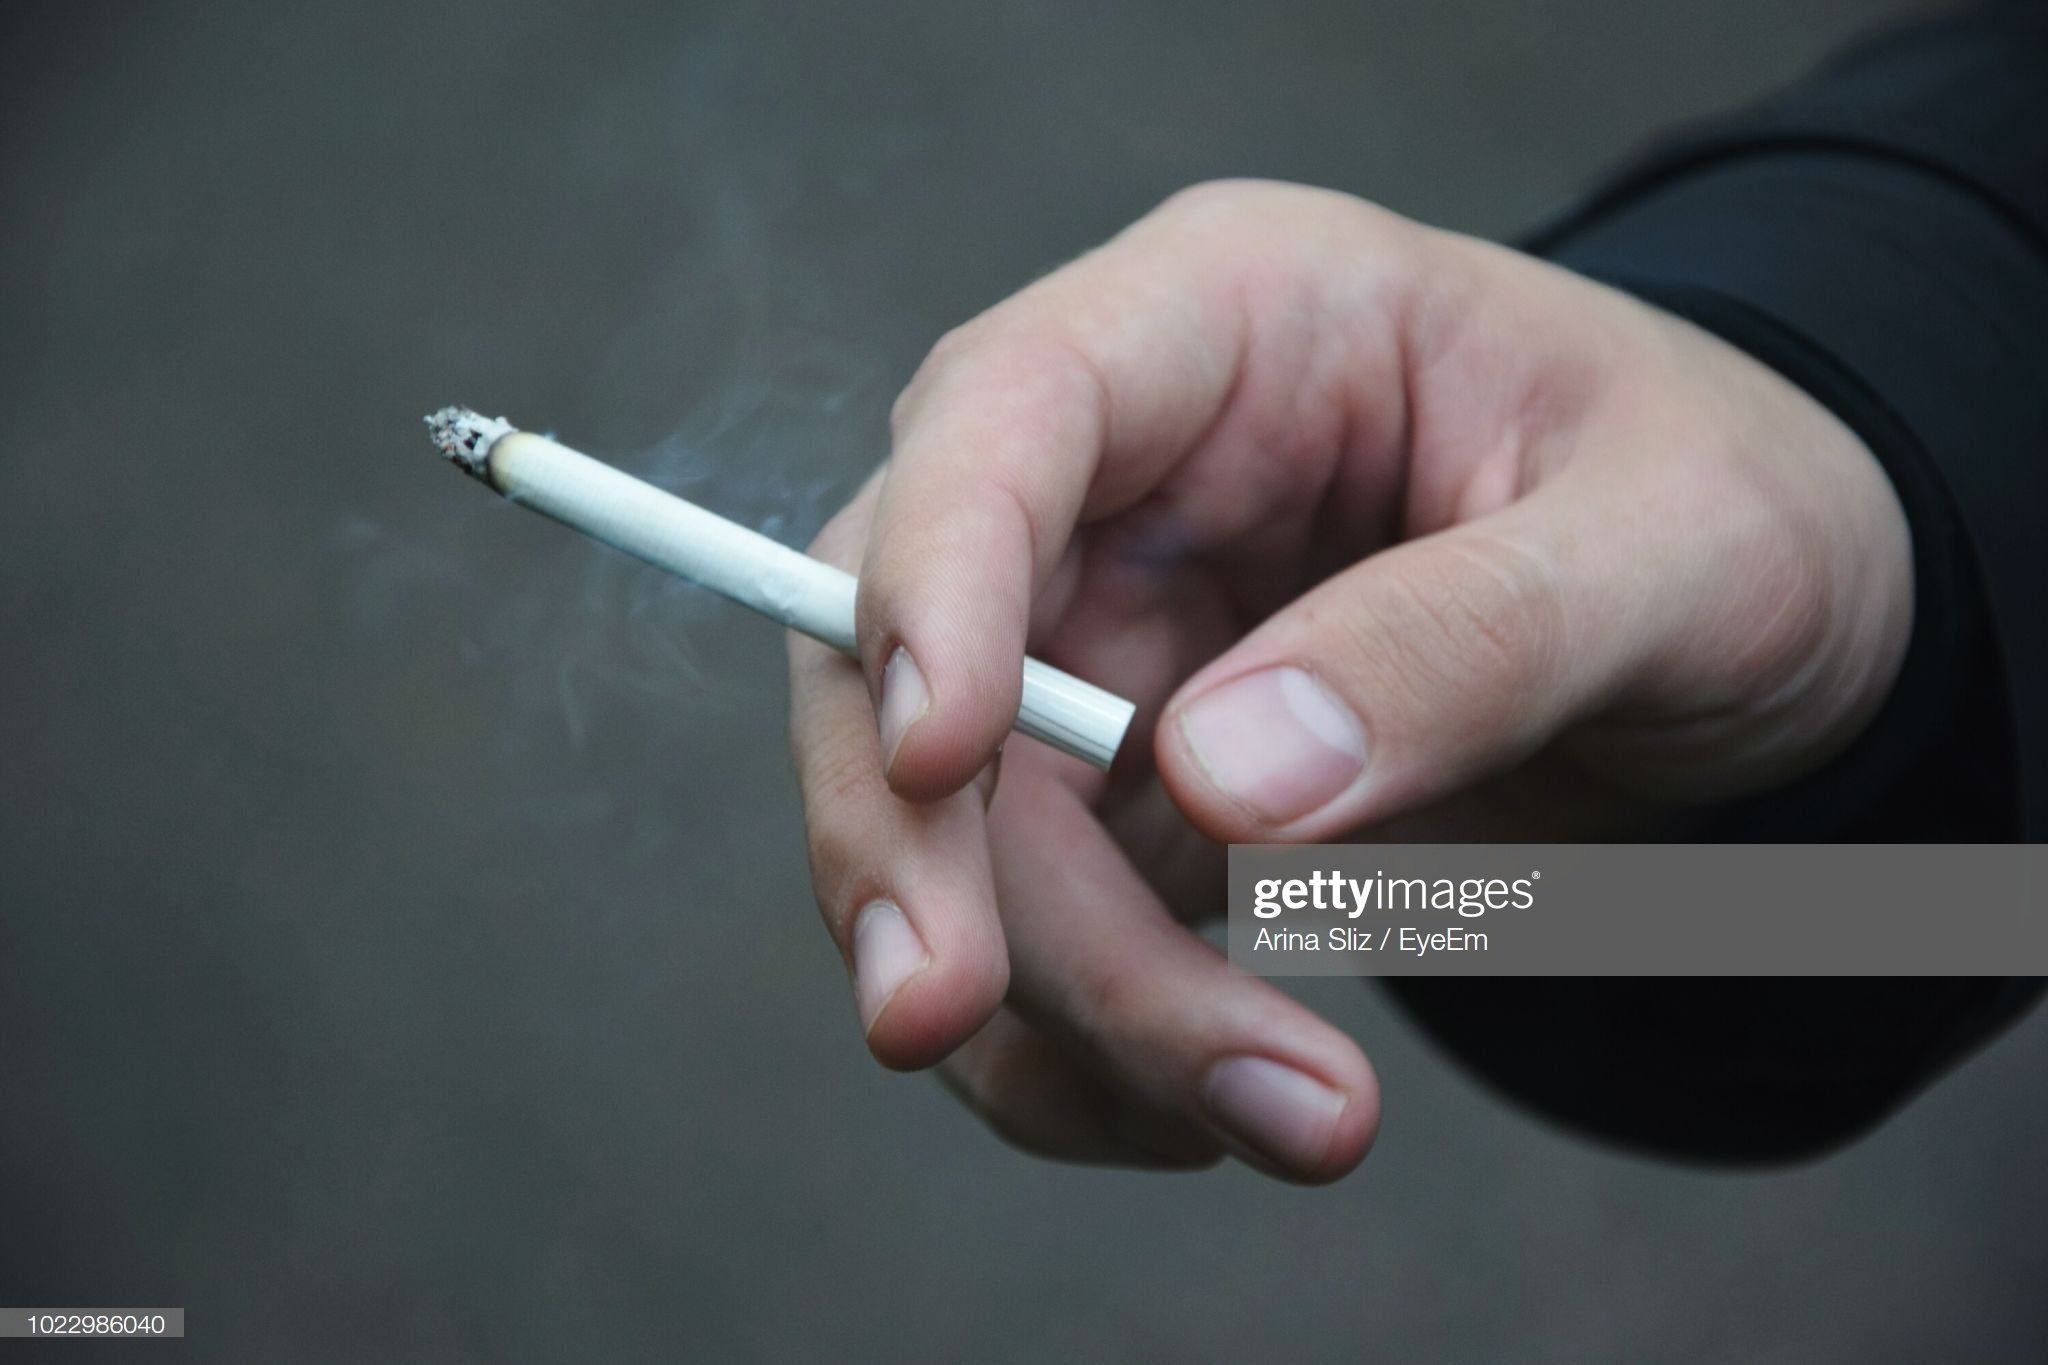sigaretta: (435, 404, 1128, 756)
